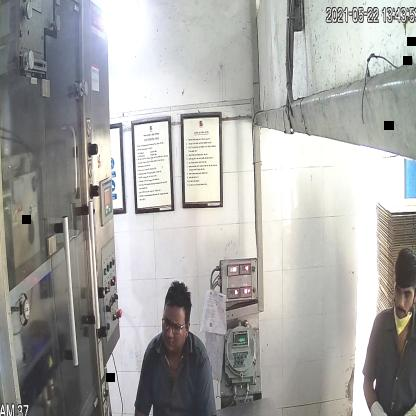goggles: (161, 312, 189, 337)
no_goggles: (392, 280, 416, 303)
